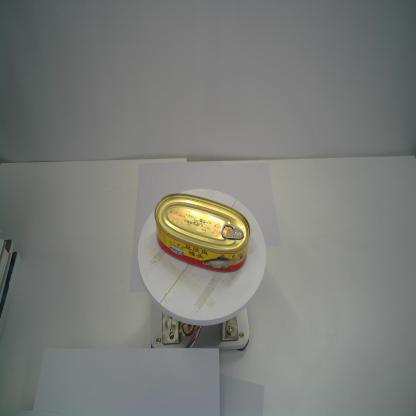Canned Food: (152, 191, 252, 274)
